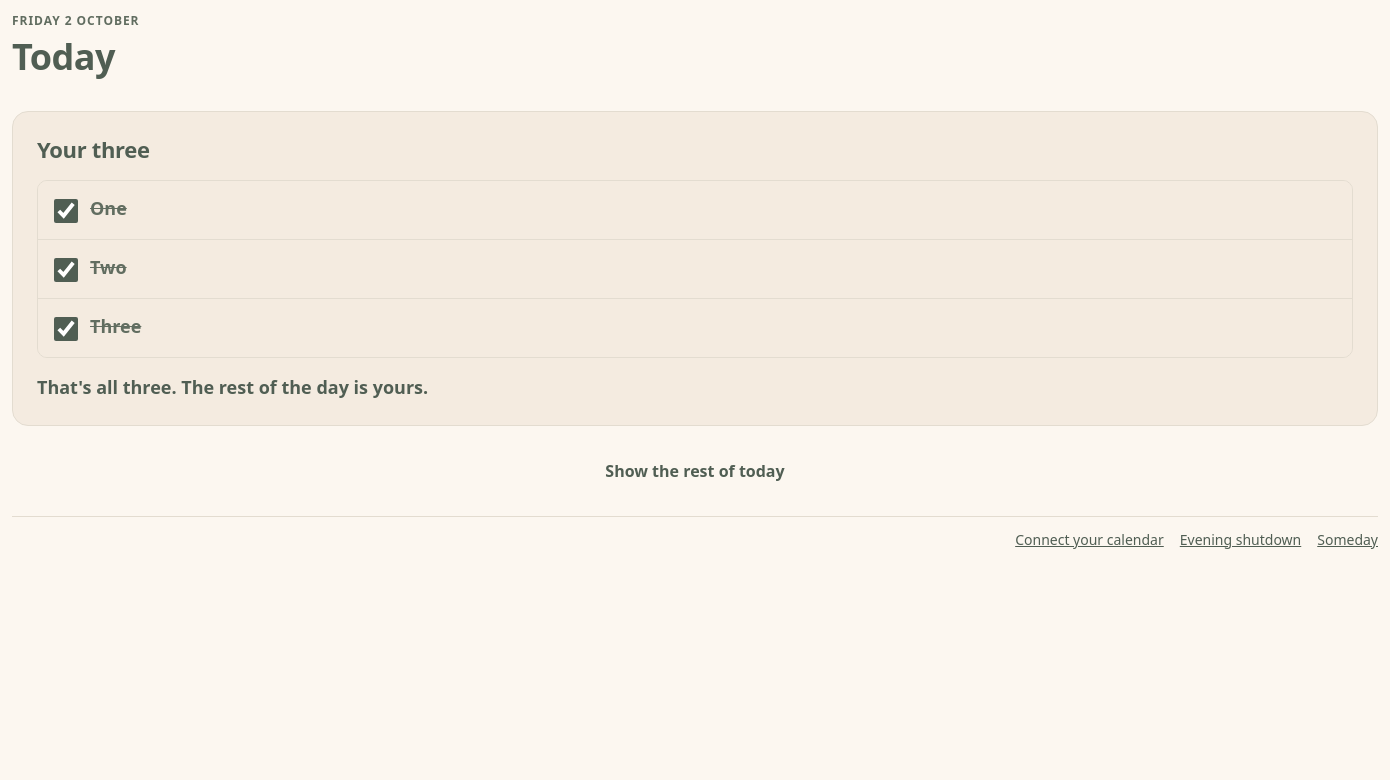
Test: TodayRoute: committed three › all three done: a clear finish, and the rest of today stays folded away until asked for
Expected: the text "That's all three. The rest of the day is yours." is shown, [37,374,428,398]
Expected: the text "Something else" is not shown
Click the button "Show the rest of today": x=695, y=470 [12,450,1378,492]
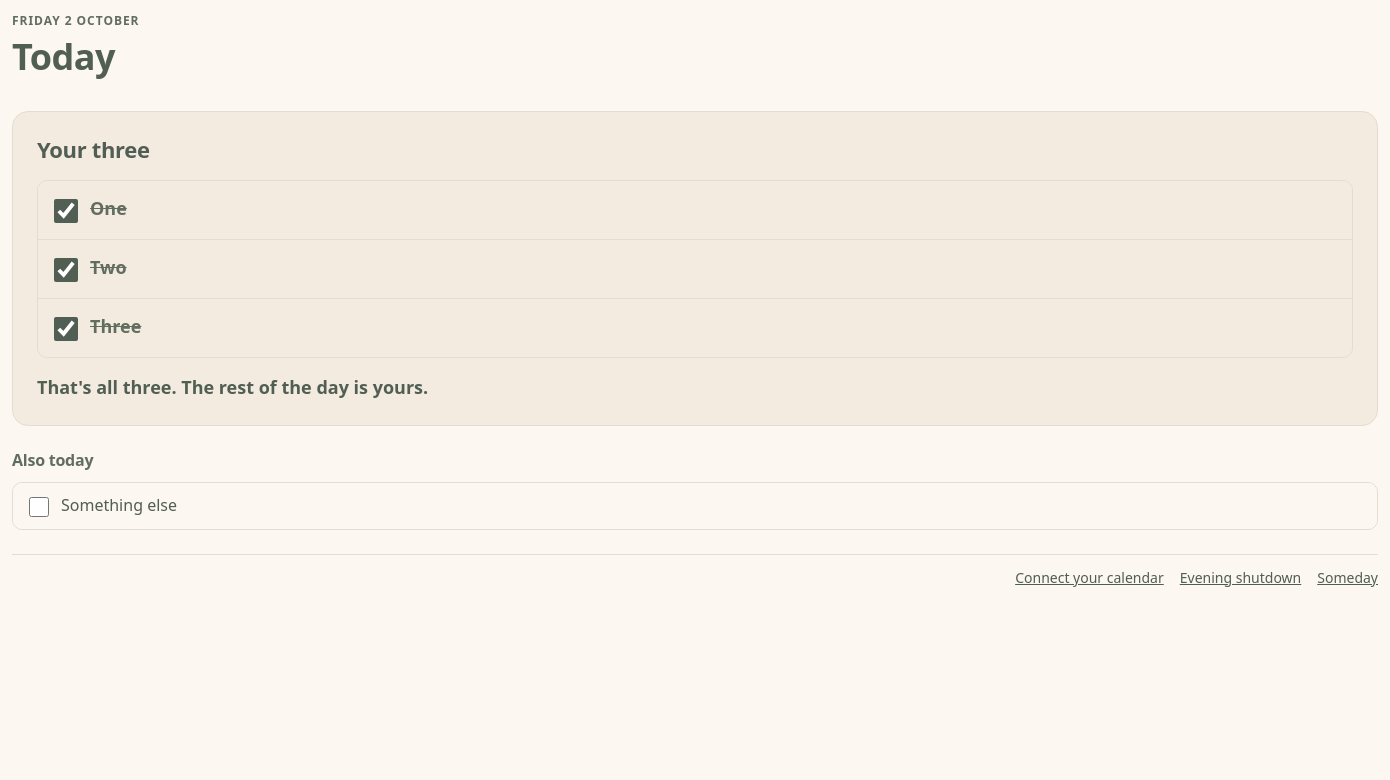
Expected: the text "Something else" is shown, [61,494,177,516]
